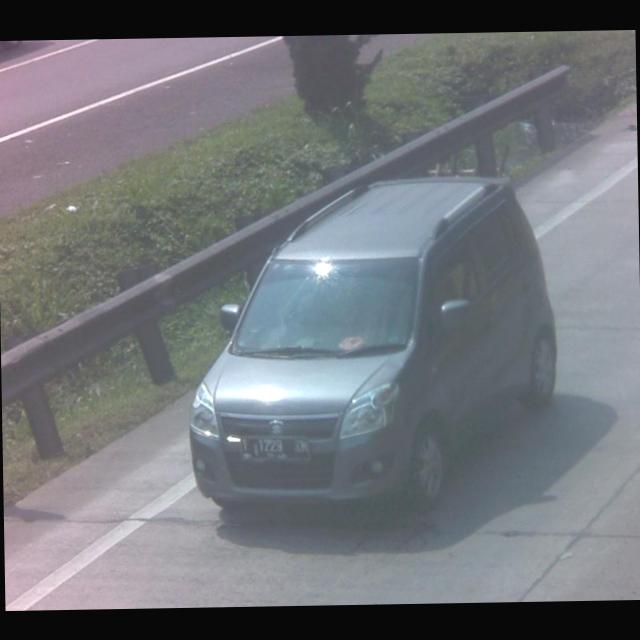plate: (238, 433, 310, 463)
